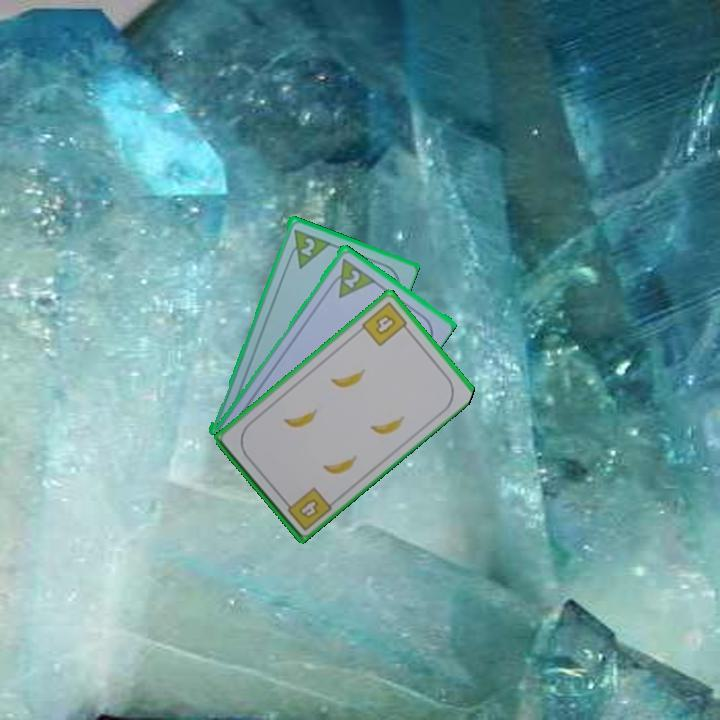2p: (324, 254, 377, 300), (297, 234, 318, 259)
4b: (358, 298, 413, 349), (279, 484, 334, 533)
